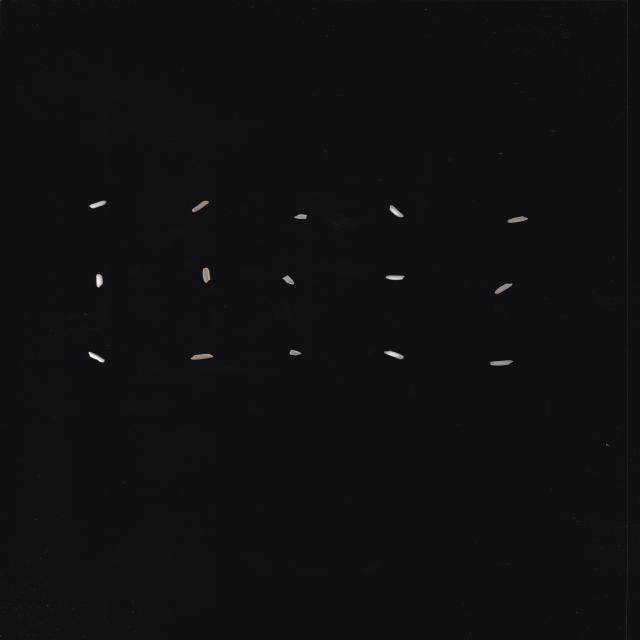Chalky: (389, 205, 404, 218), (384, 350, 403, 360), (386, 275, 404, 280)
Not: (192, 201, 209, 212), (494, 284, 512, 294), (88, 352, 105, 362), (507, 216, 528, 223), (490, 360, 513, 366), (191, 354, 213, 360), (90, 200, 106, 208), (203, 268, 210, 283), (282, 276, 294, 284), (96, 274, 103, 287), (294, 214, 306, 220), (290, 350, 301, 355)
